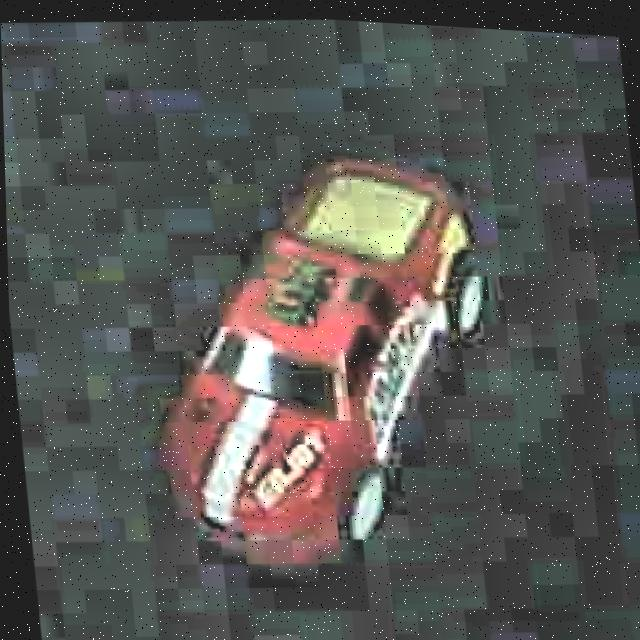car: (125, 125, 519, 590)
